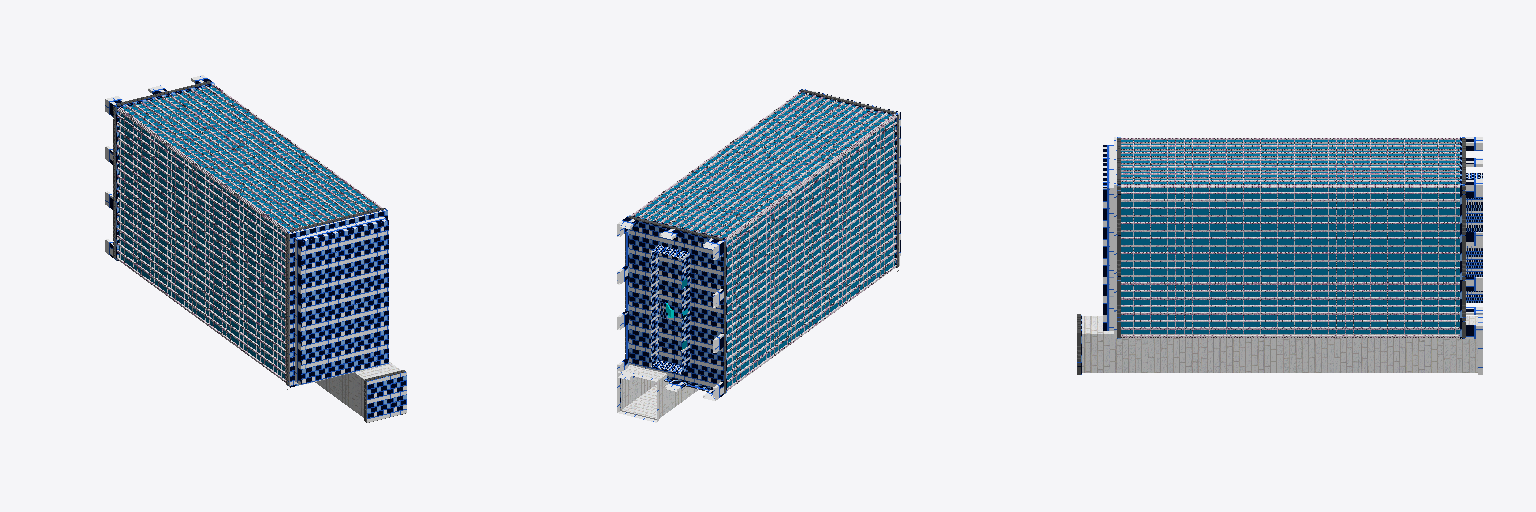
The picture shows the model from 3 angles: view 1: azimuth 30°, elevation 25°; view 2: azimuth 150°, elevation 25°; view 3: azimuth 270°, elevation 25°; orthographic projection.
Parts seen in each view (by area): view 1: Glass_01, Frame_01, Wall_07, Frame_03, Frame_02, wall_1_01, Wall_06, Wall_02; view 2: Glass_01, Frame_01, Wall_07, Frame_03, wall_2_01, wall_1_01, Wall_02, Frame_02, Design_02; view 3: Glass_01, Frame_01, wall_1_01, Frame_02, Wall_06, Wall_02, wall_2_01, Design_02, Wall_05, Design_04.
Boxes of the visible parts, x1=… form: Glass_01: x1=119, y1=86, x2=377, y2=378; Frame_01: x1=117, y1=84, x2=381, y2=382; Wall_07: x1=116, y1=83, x2=406, y2=422; Frame_03: x1=120, y1=87, x2=377, y2=376; Frame_02: x1=124, y1=87, x2=376, y2=379; wall_1_01: x1=315, y1=362, x2=400, y2=417; Wall_06: x1=295, y1=217, x2=388, y2=384; Wall_02: x1=105, y1=75, x2=210, y2=257; Glass_01: x1=635, y1=93, x2=894, y2=387; Frame_01: x1=631, y1=91, x2=896, y2=390; Wall_07: x1=620, y1=89, x2=896, y2=419; Frame_03: x1=634, y1=94, x2=889, y2=381; wall_2_01: x1=651, y1=245, x2=689, y2=373; wall_1_01: x1=621, y1=365, x2=698, y2=418; Wall_02: x1=617, y1=218, x2=723, y2=400; Frame_02: x1=635, y1=94, x2=893, y2=384; Design_02: x1=629, y1=90, x2=898, y2=393; Glass_01: x1=1121, y1=140, x2=1459, y2=333; Frame_01: x1=1121, y1=138, x2=1459, y2=337; wall_1_01: x1=1082, y1=316, x2=1477, y2=372; Frame_02: x1=1133, y1=140, x2=1455, y2=333; Wall_06: x1=1103, y1=145, x2=1113, y2=330; Wall_02: x1=1466, y1=137, x2=1482, y2=338; wall_2_01: x1=1466, y1=173, x2=1482, y2=302; Design_02: x1=1077, y1=138, x2=1465, y2=374; Wall_05: x1=1114, y1=137, x2=1460, y2=338; Design_04: x1=1078, y1=138, x2=1465, y2=373.
Bounding box in the file's own units: 816 × 1496 × 2880.
8 materials, 3 textured.